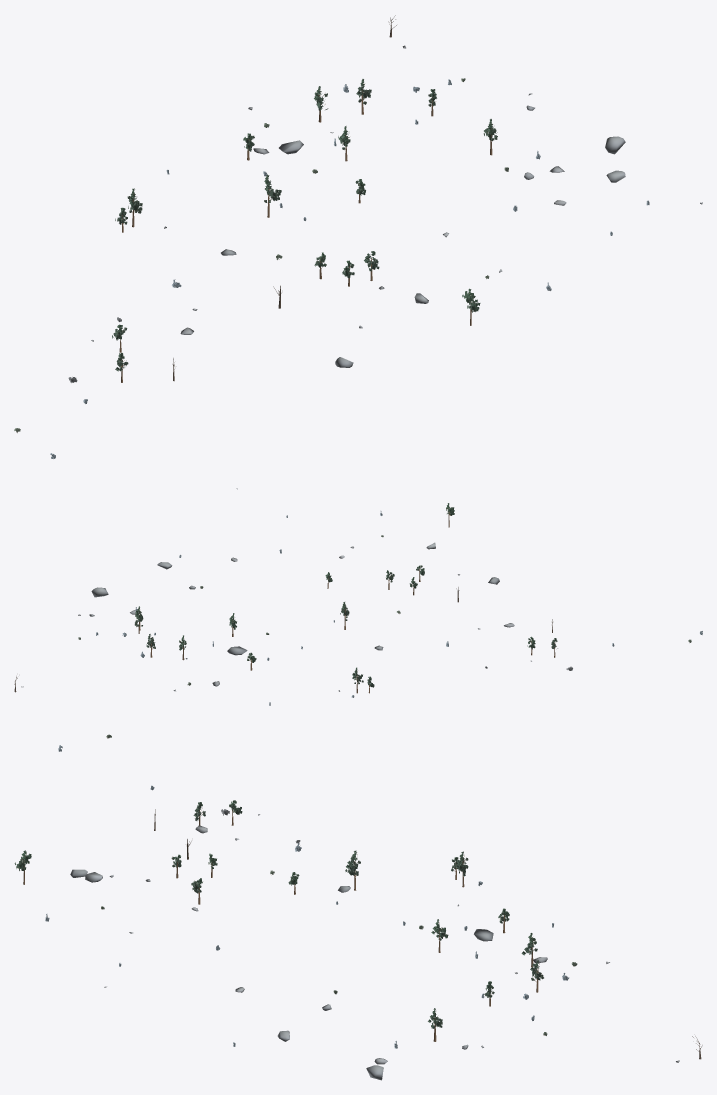
The model's file is frost_land_scatter_c18_11.glb.
3 views of the same model, one above another, from view 1: azimuth 30°, elevation 25°; view 2: azimuth 150°, elevation 25°; view 3: azimuth 270°, elevation 25° (orthographic). The views are drawn at different scales.
Visible parts, largest first — view 1: frost_land_scatter_c18_11; view 2: frost_land_scatter_c18_11; view 3: frost_land_scatter_c18_11.
Part boxes in pixels (x1,y1,x2,y2): frost_land_scatter_c18_11: [14, 15, 702, 458]; frost_land_scatter_c18_11: [14, 488, 702, 705]; frost_land_scatter_c18_11: [14, 734, 702, 1080].
Bounding box in the file's own units: 228 × 29.63 × 195.
